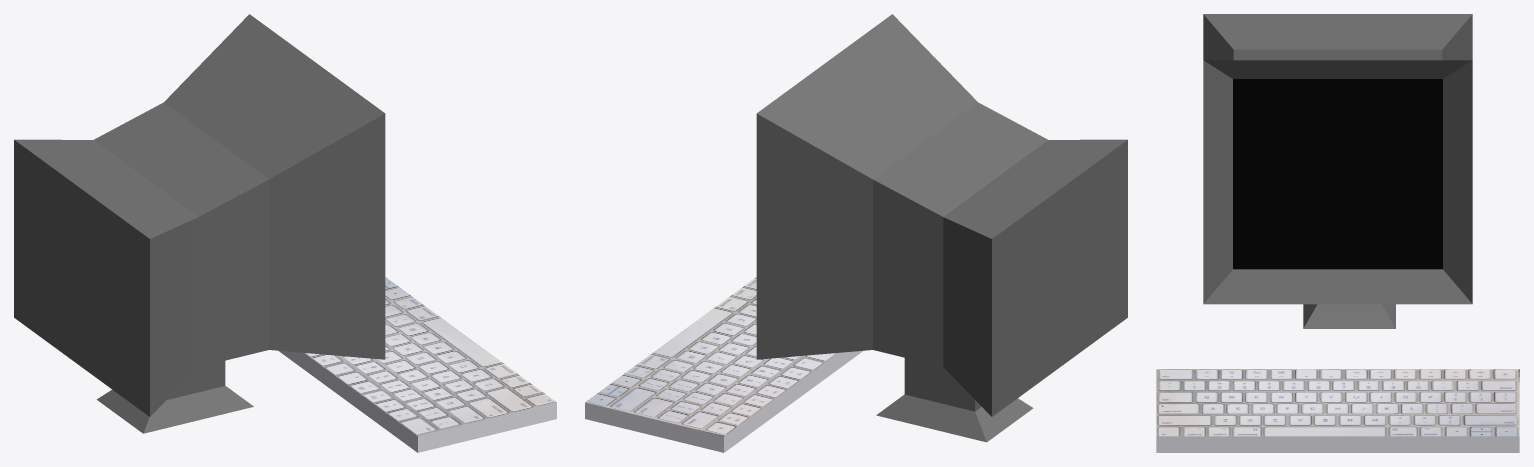
The picture shows the model from 3 angles, left to right: view 1: azimuth 30°, elevation 25°; view 2: azimuth 150°, elevation 25°; view 3: azimuth 270°, elevation 25°; orthographic projection.
Visible parts, largest first — view 1: Cube, Cube.001; view 2: Cube, Cube.001; view 3: Cube, Cube.001.
Part boxes in pixels (left/top/right/bottom): Cube: left=14, top=14, right=385, bottom=433; Cube.001: left=278, top=277, right=556, bottom=452; Cube: left=756, top=14, right=1127, bottom=442; Cube.001: left=585, top=277, right=863, bottom=452; Cube: left=1203, top=14, right=1472, bottom=328; Cube.001: left=1156, top=369, right=1519, bottom=452.
Bounding box in the file's own units: 551 × 446 × 457.
3 materials, 1 textured.
